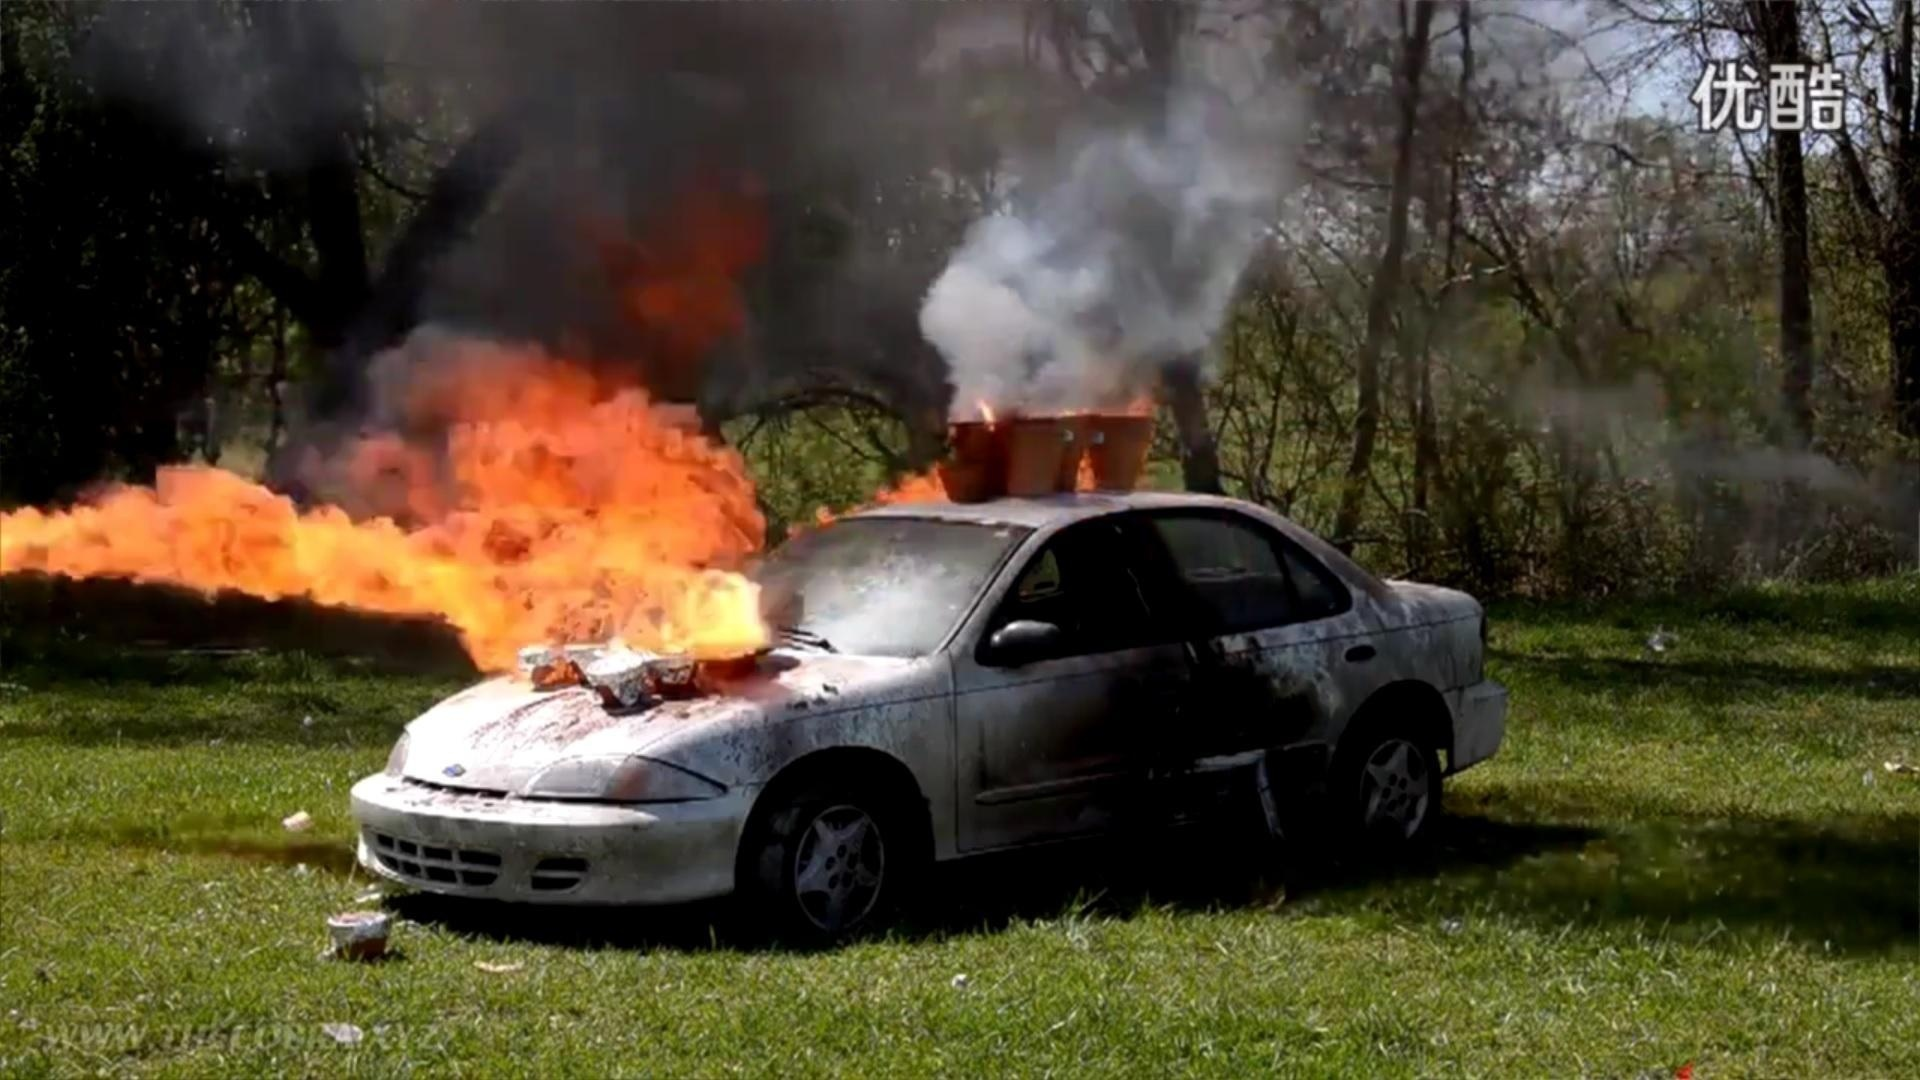fire: (0, 363, 775, 676), (852, 376, 1158, 514)
